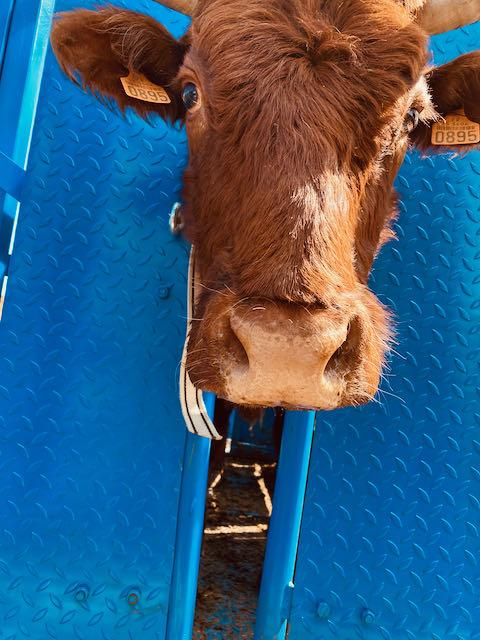muzzles: (169, 278, 403, 430)
